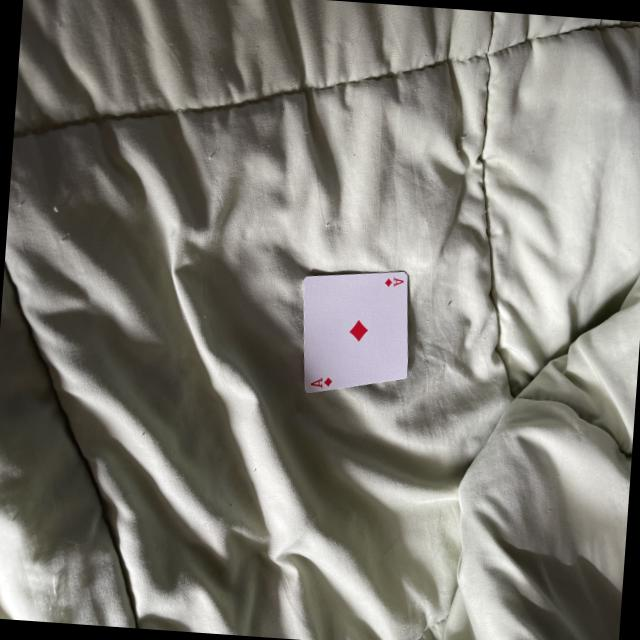Ace of diamonds: (301, 274, 405, 392)
